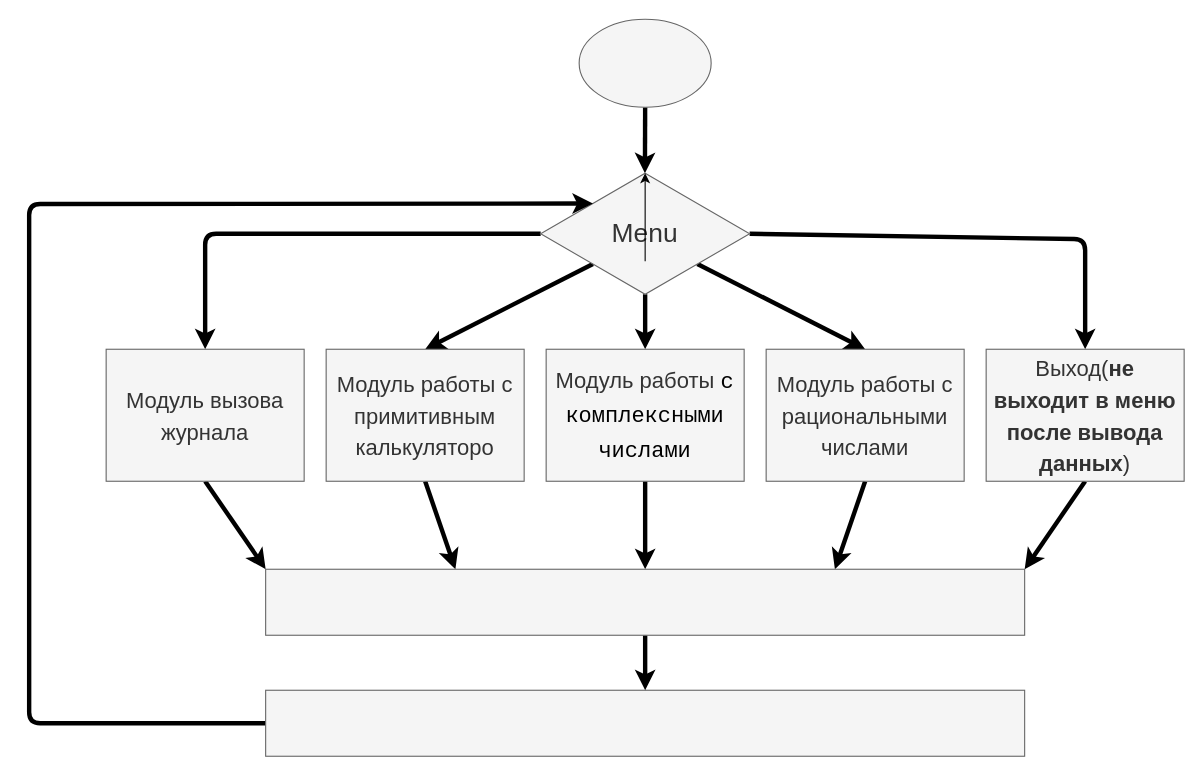
This 1203x776 diagram has some shape labels left out. The shapes that lost their labels are listed below. From the top down, each one's box as (x1, y1, x2, y2) in pixels, then its label:
(578, 18, 711, 107): Start
(265, 568, 1025, 635): Логирование
(265, 689, 1025, 756): Вывод данных
